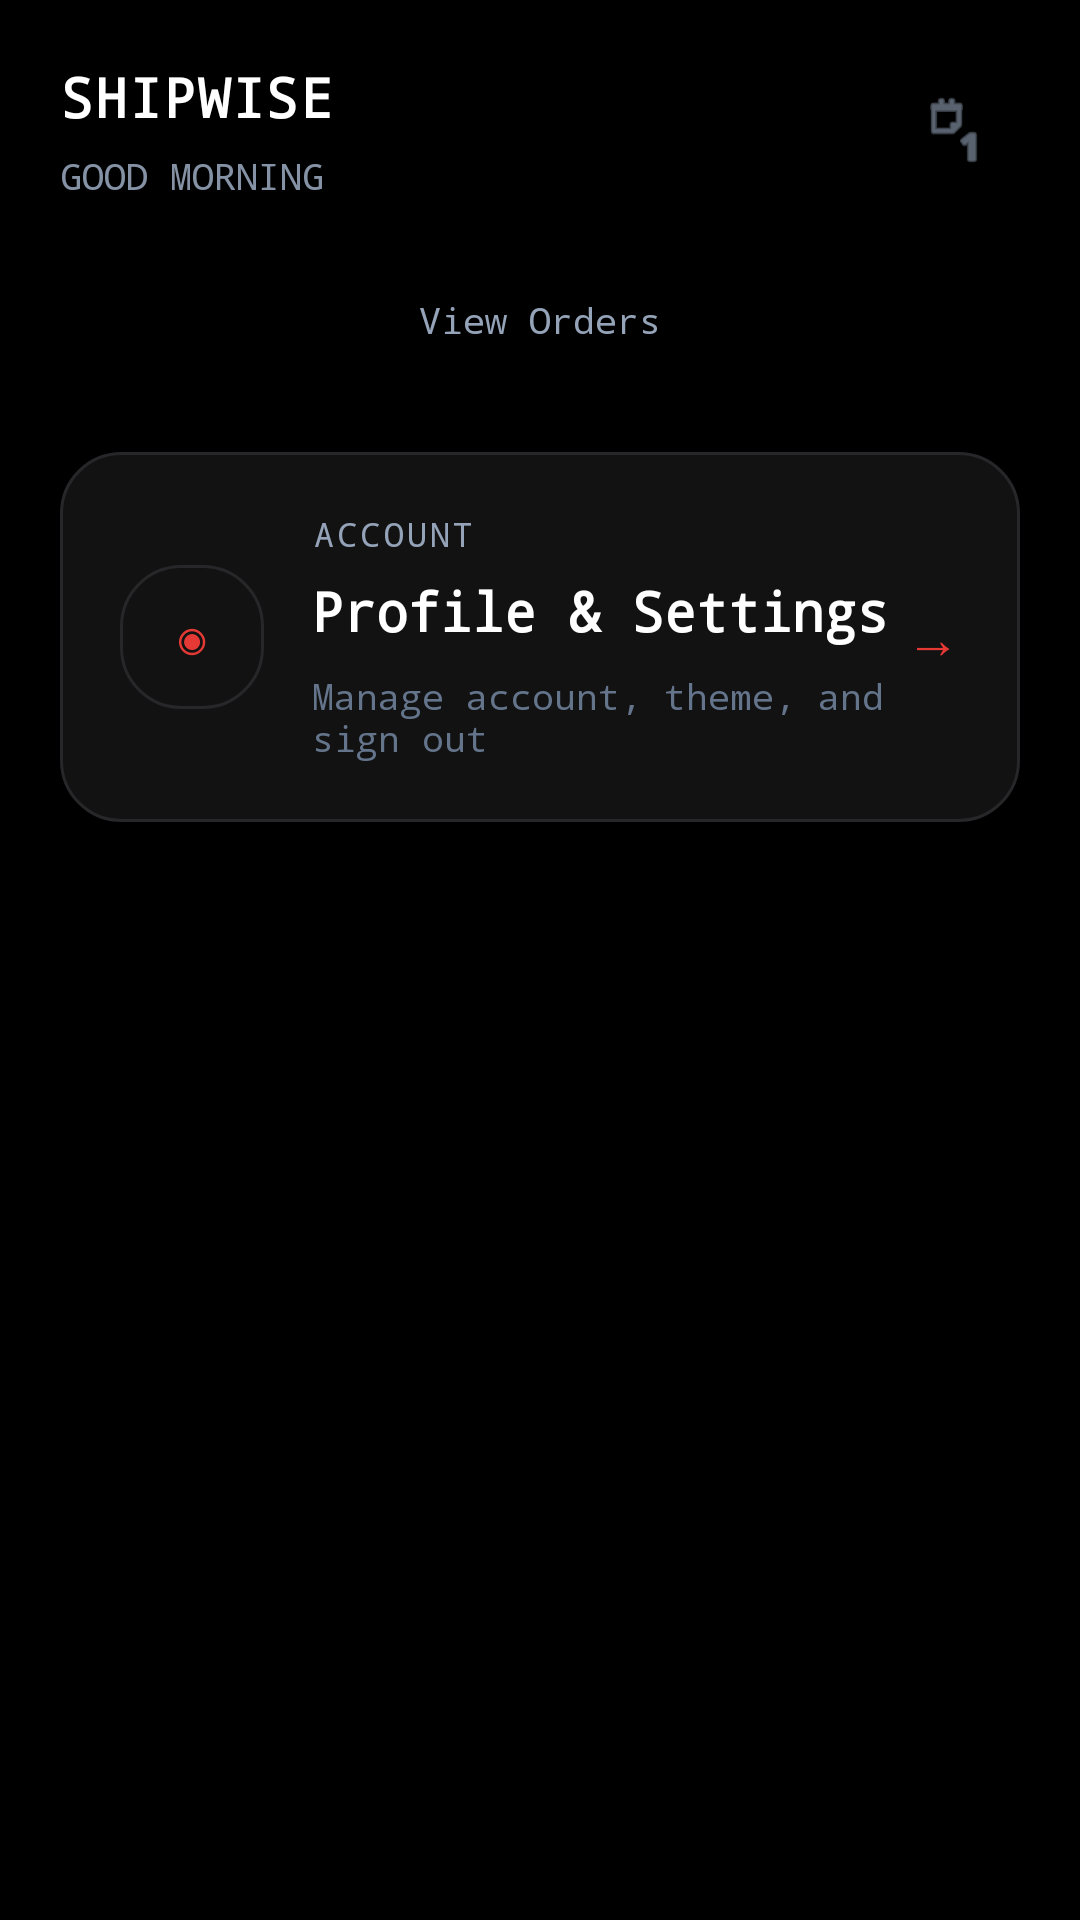

Point at icon controls on the screen. Image size 1080×1920, points as (x,y).
day: (953,130)
